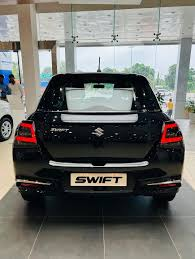Swift: (11, 57, 186, 208)
